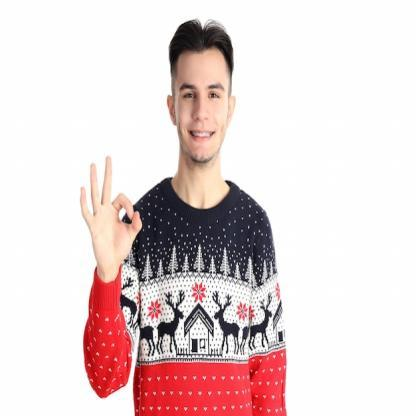ok: (77, 150, 145, 275)
